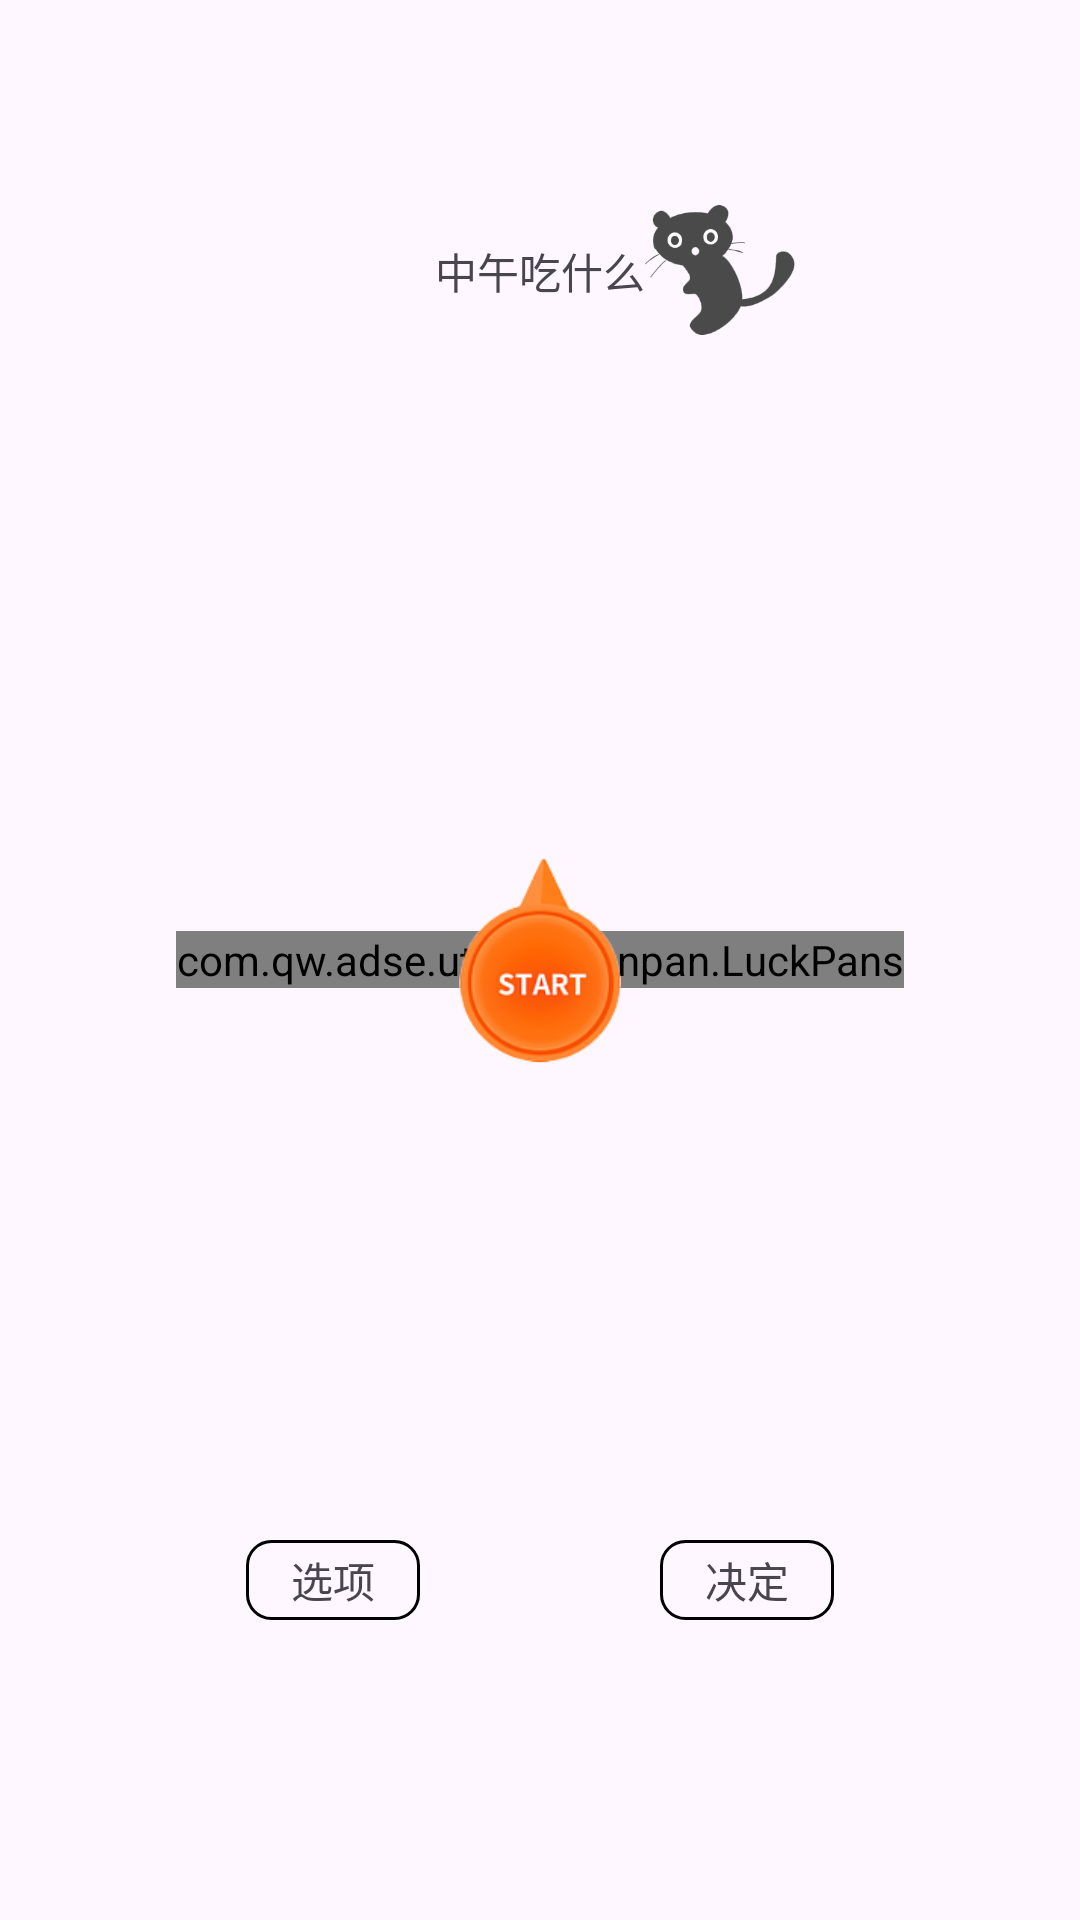

Icon bounding boxes for this 1080px×1920px phone screenshot, format (x1, y1, x2, y2):
mao: (645, 205, 795, 335)
